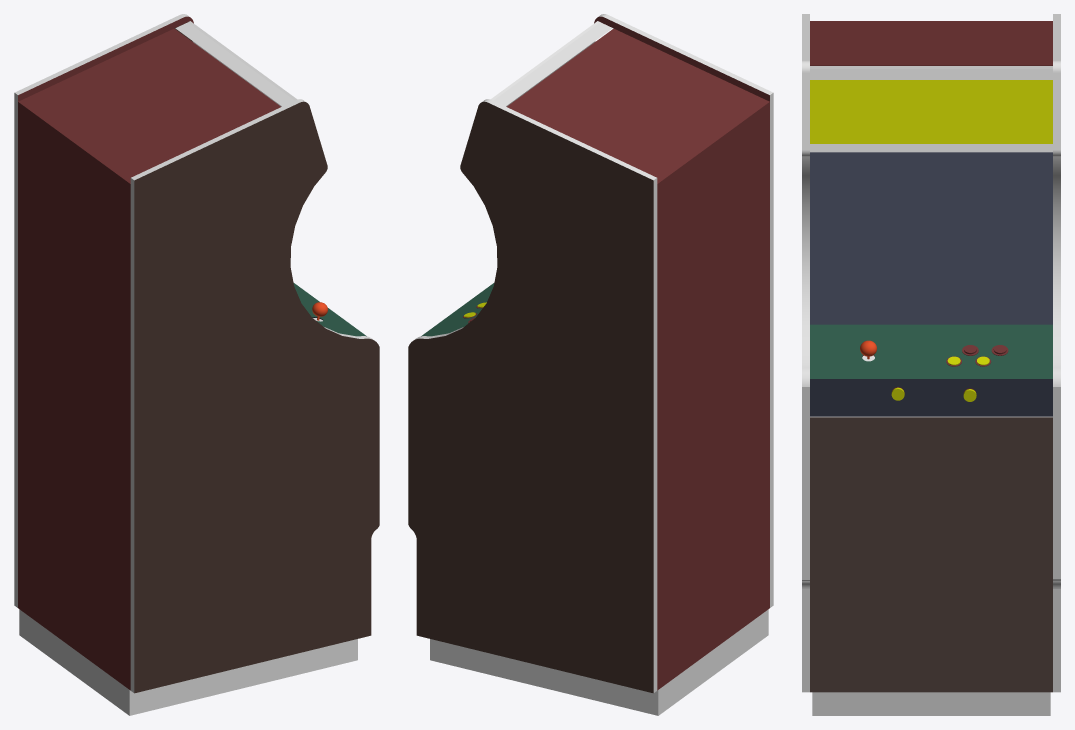
File: Cabinato.fbx
3 views of the same model, side by side, from view 1: azimuth 30°, elevation 25°; view 2: azimuth 150°, elevation 25°; view 3: azimuth 270°, elevation 25° (orthographic). The views are drawn at different scales.
Parts seen in each view (by area): view 1: Cabinato26, Cabinato15, Cabinato9, Cabinato24, Cabinato16; view 2: Cabinato23, Cabinato15, Cabinato9, Cabinato24, Cabinato16; view 3: Cabinato21, Cabinato16, Cabinato9, Cabinato22, Cabinato15, Cabinato24, Cabinato11, Cabinato27.
Boxes of the visible parts, x1,y1,x2,y2 form: Cabinato26: [134, 101, 379, 693]; Cabinato15: [18, 16, 280, 690]; Cabinato9: [14, 14, 373, 715]; Cabinato24: [175, 21, 297, 106]; Cabinato16: [293, 283, 366, 336]; Cabinato23: [408, 101, 653, 693]; Cabinato15: [507, 16, 769, 690]; Cabinato9: [414, 14, 773, 715]; Cabinato24: [490, 21, 612, 106]; Cabinato16: [421, 283, 494, 336]; Cabinato21: [810, 417, 1052, 692]; Cabinato16: [810, 152, 1052, 416]; Cabinato9: [802, 14, 1060, 715]; Cabinato22: [810, 80, 1052, 143]; Cabinato15: [810, 21, 1052, 392]; Cabinato24: [810, 66, 1052, 79]; Cabinato11: [810, 144, 1052, 152]; Cabinato27: [810, 416, 1052, 417].
Size of the model in its own units: 74.93 by 168 by 63.5.
